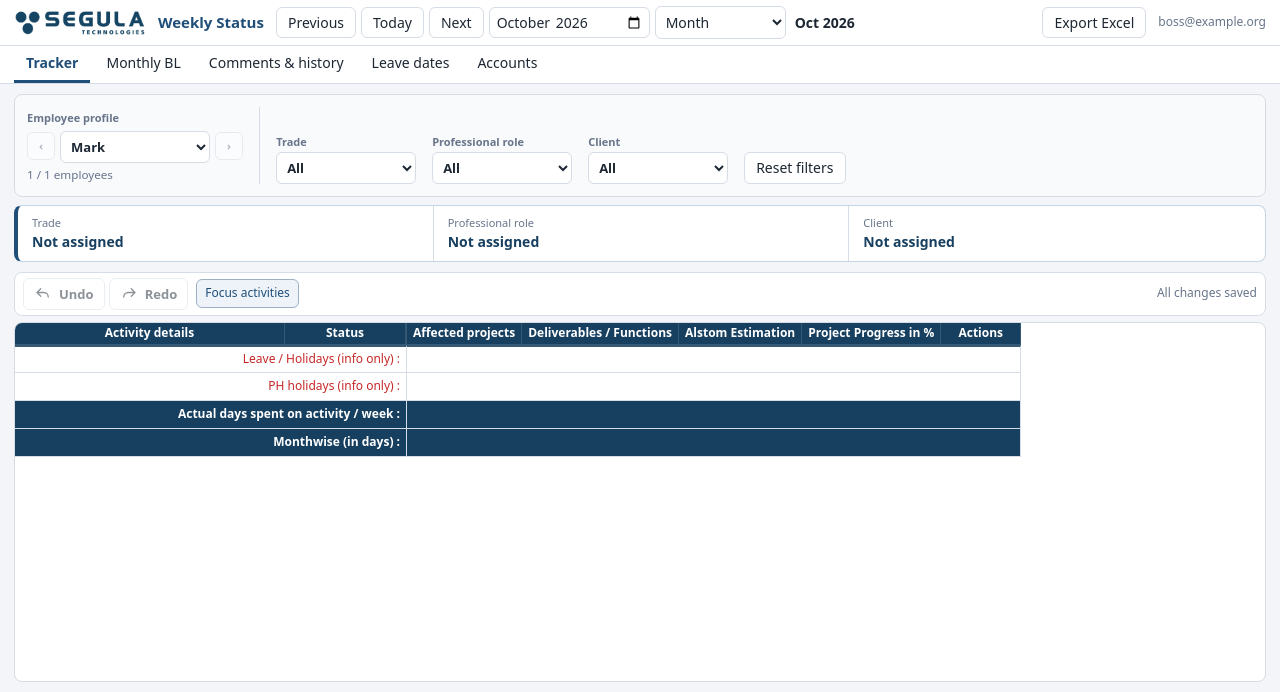
refreshes the selected profile after account delete
This screenshot has width=1280, height=692.
Expected: the element named "Employee affiliation" is shown, [14,204,1266,262]
Click the button "Accounts".
click(507, 64)  # box [465,46,549,83]
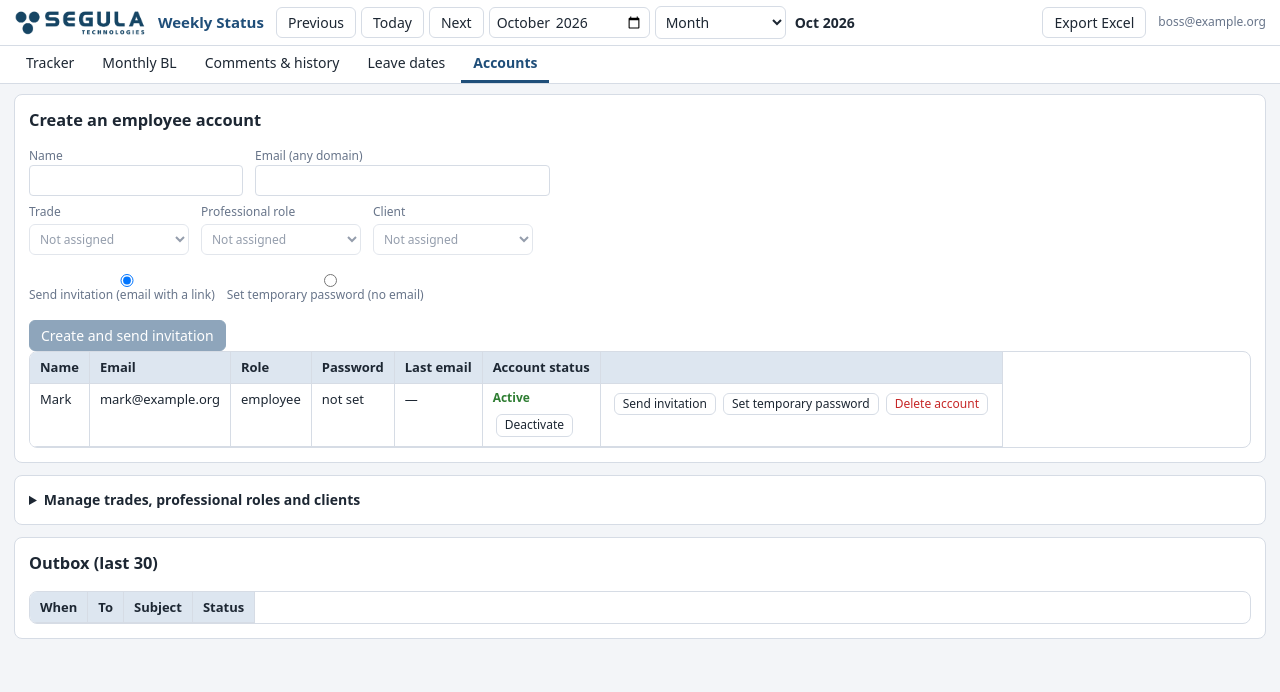
Click the button "Delete account".
click(937, 404)  # box [886,393,988,416]
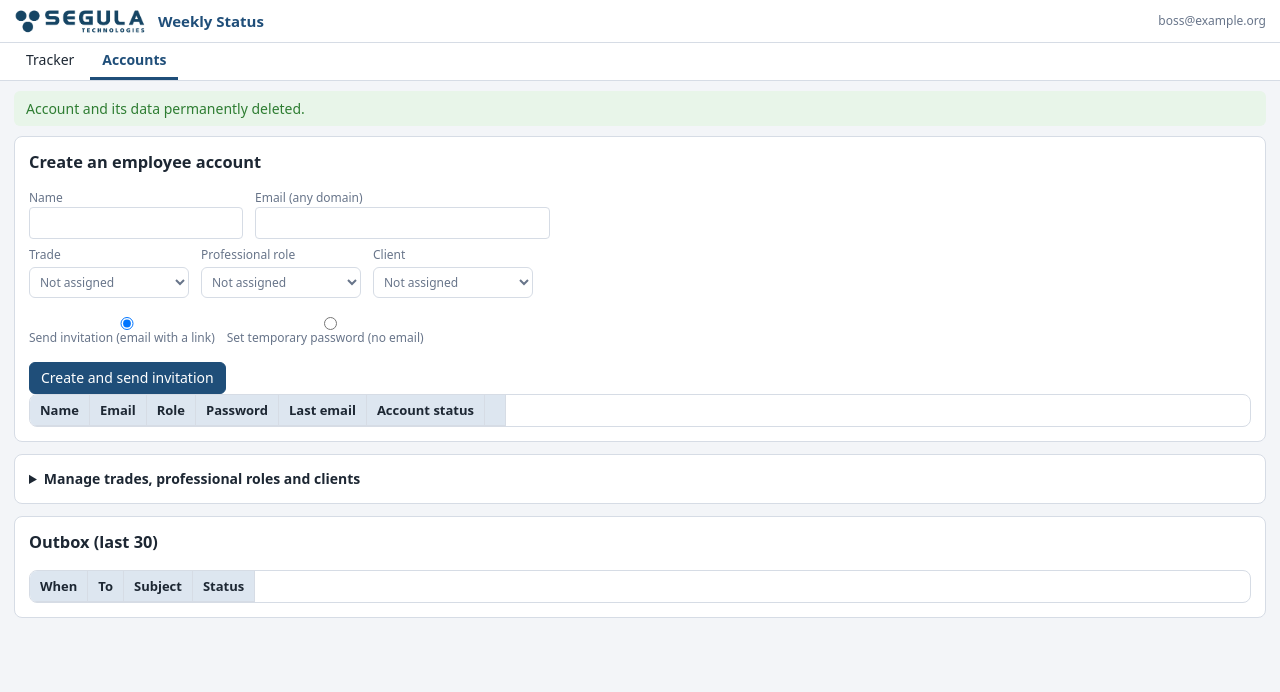
Expected: the text "Account and its data permanently deleted." is shown, [14,91,1266,126]
Click the button "Tracker".
click(50, 61)  # box [14,43,86,80]
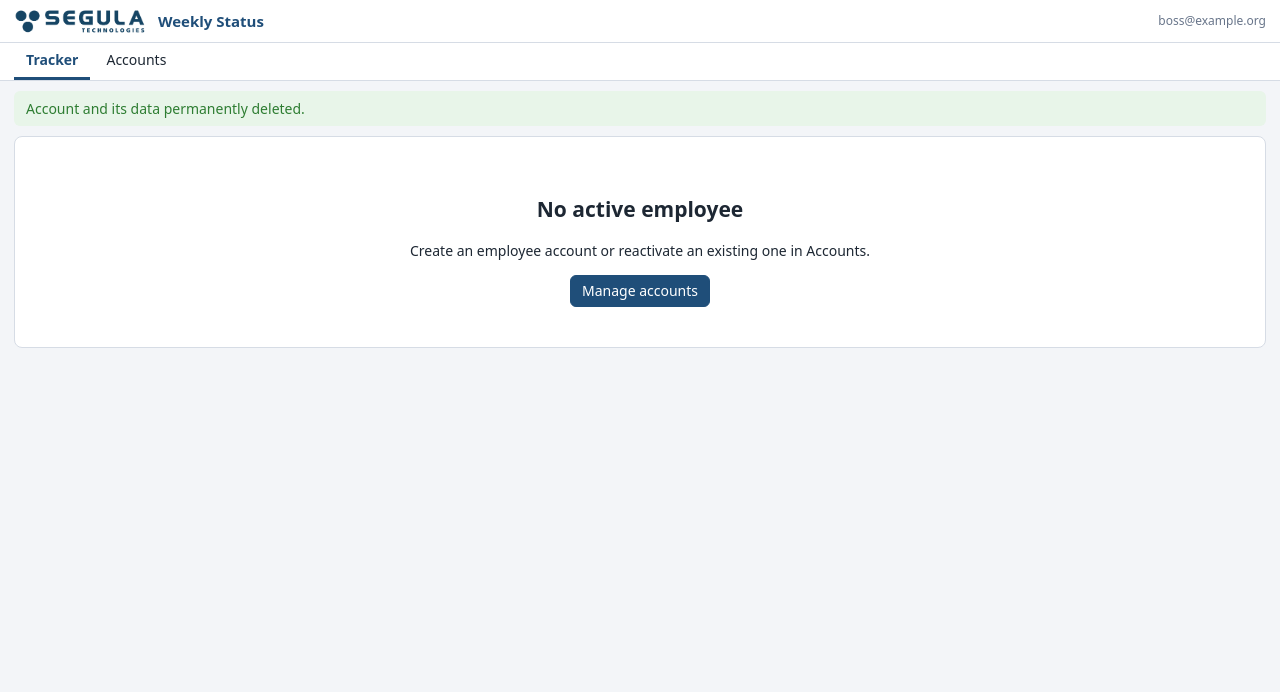
Expected: the heading "No active employee" is shown, [537,195,743,223]
